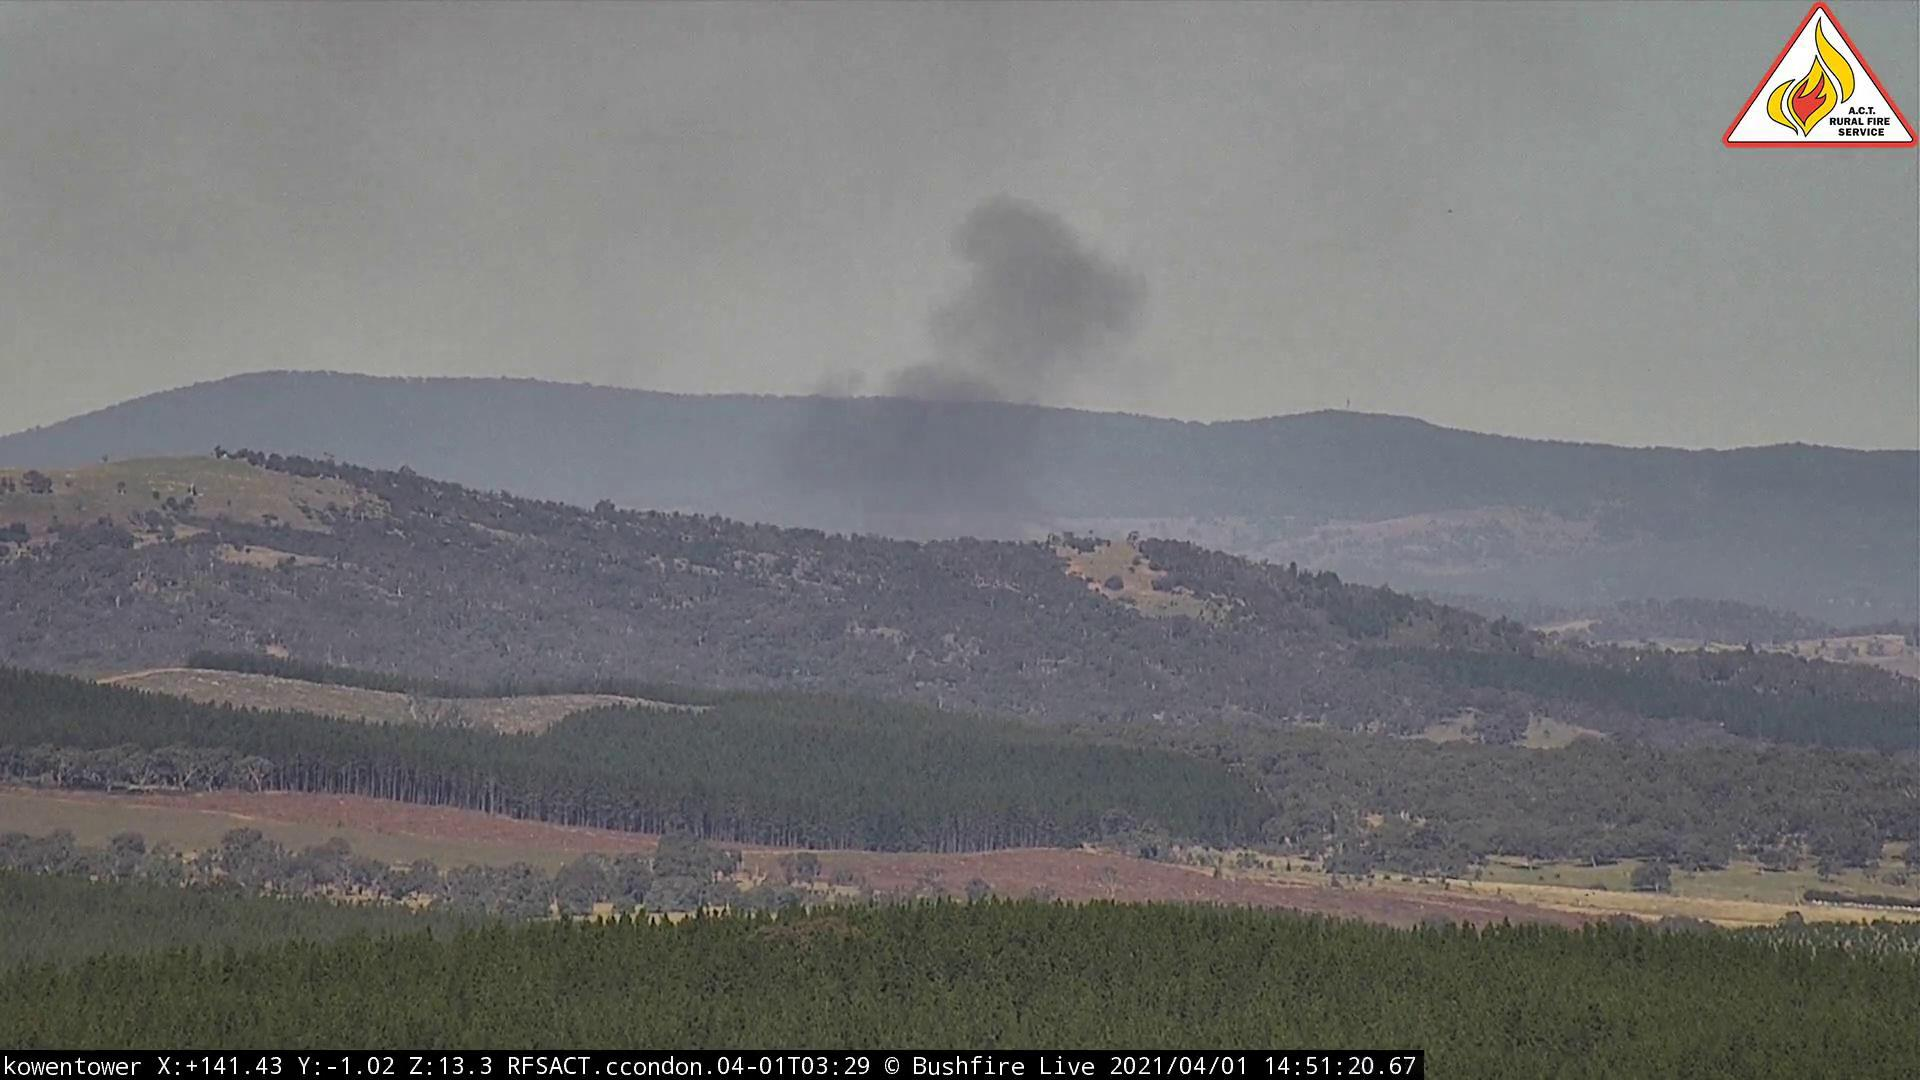Smoke: (715, 175, 1191, 564)
